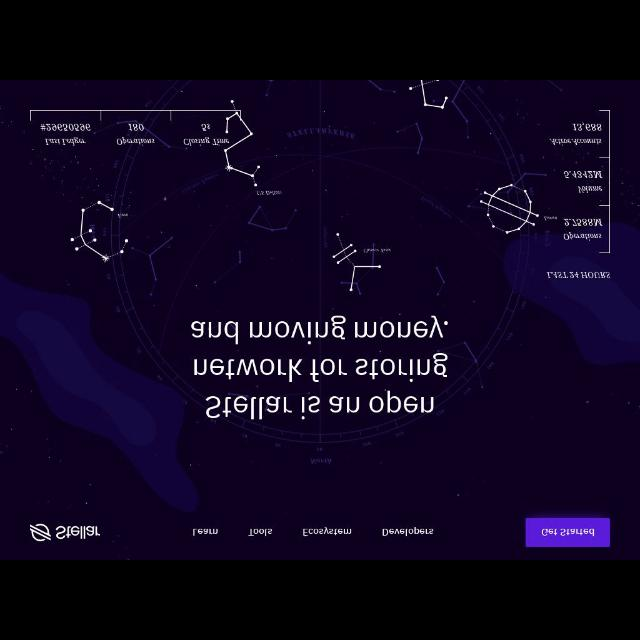backgroundimage: (1, 82, 640, 558)
image: (70, 198, 134, 264), (479, 182, 538, 234), (332, 232, 382, 292), (224, 111, 262, 187), (407, 80, 453, 110), (28, 523, 52, 543)
multitab: (191, 526, 437, 538)
text: (187, 315, 449, 421), (546, 269, 610, 279), (56, 526, 100, 540), (303, 526, 353, 538), (382, 527, 436, 537), (549, 136, 601, 146), (182, 136, 230, 146), (541, 528, 595, 536), (44, 136, 86, 146), (40, 123, 92, 131), (117, 136, 155, 146), (564, 170, 600, 180), (564, 232, 602, 240), (564, 218, 602, 226), (572, 122, 602, 132), (192, 527, 218, 537), (247, 528, 273, 538), (578, 186, 602, 194), (363, 248, 391, 254), (128, 122, 144, 132), (257, 190, 283, 196), (118, 212, 130, 218), (202, 123, 210, 131), (544, 216, 558, 220)
textbutton: (526, 517, 610, 547)
toolbar: (0, 508, 638, 560)
